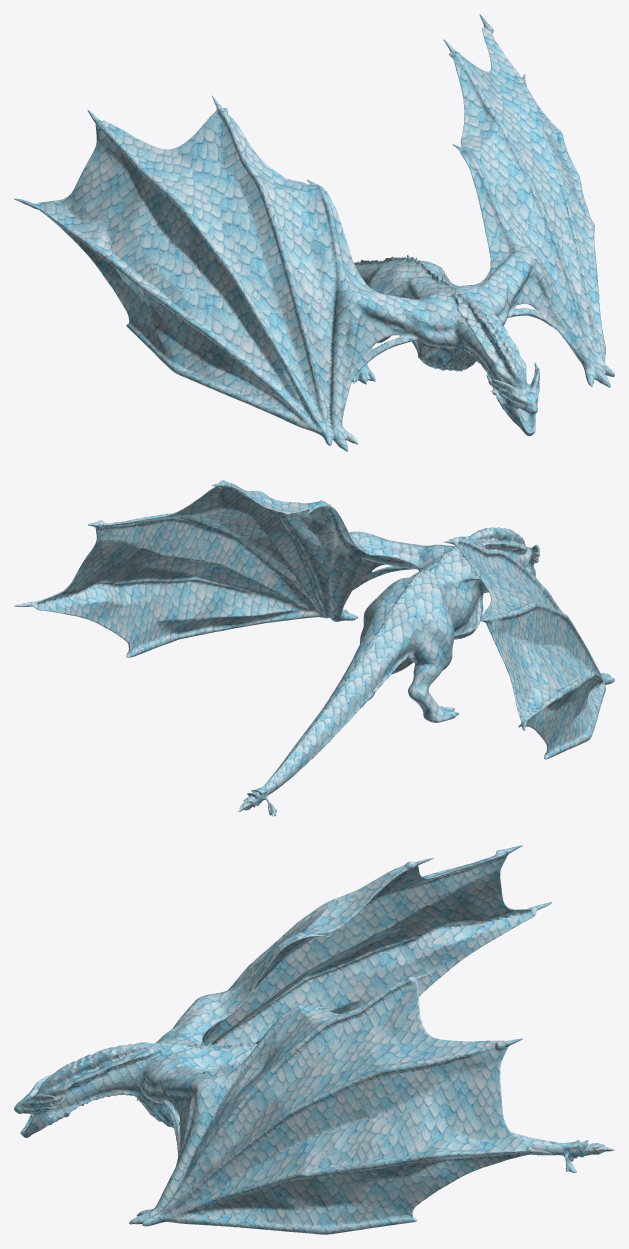
The model's file is frostwing_dragon_textured.fbx.
The picture shows the model from 3 angles, top to bottom: view 1: azimuth 30°, elevation 25°; view 2: azimuth 150°, elevation 25°; view 3: azimuth 270°, elevation 25°; orthographic projection.
Visible parts, largest first — view 1: mesh_node; view 2: mesh_node; view 3: mesh_node.
Boxes of the visible parts, <box> form: mesh_node: <box>14,14,614,451</box>; mesh_node: <box>14,480,614,816</box>; mesh_node: <box>14,845,614,1234</box>.
Bounding box in the file's own units: 188 × 87.77 × 190.
Materials: 1 (1 with a texture image).
